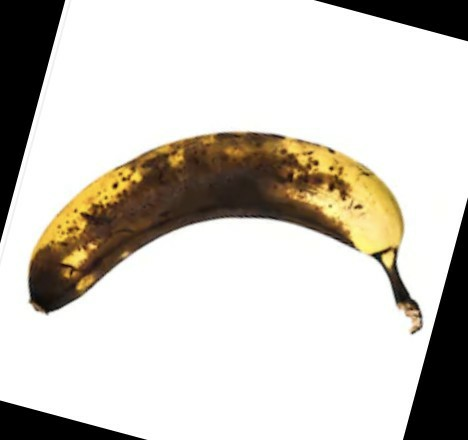rotten_banana: (29, 131, 428, 333)
